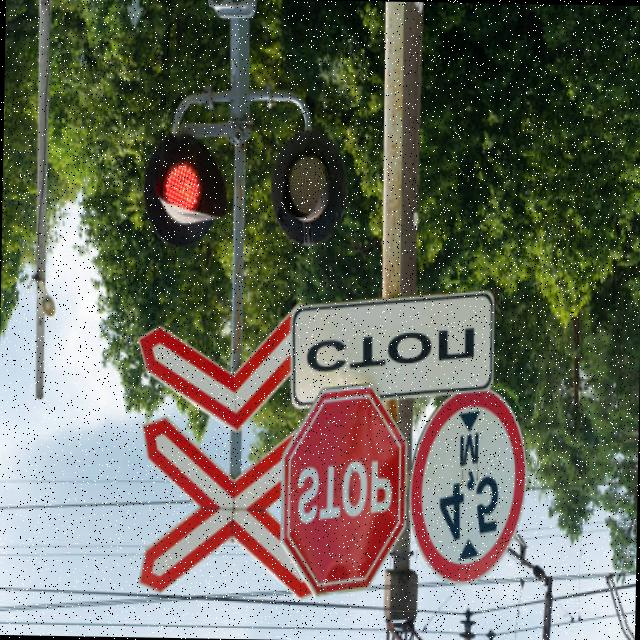stop: (280, 376, 412, 595)
